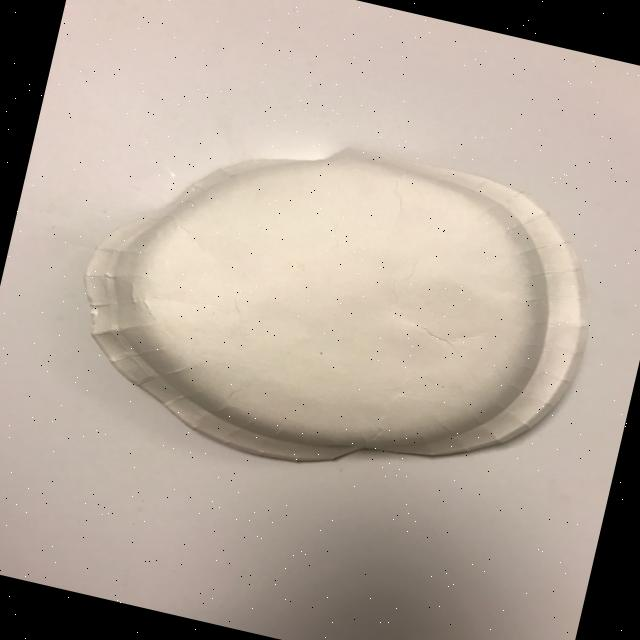paper: (52, 91, 618, 522)
